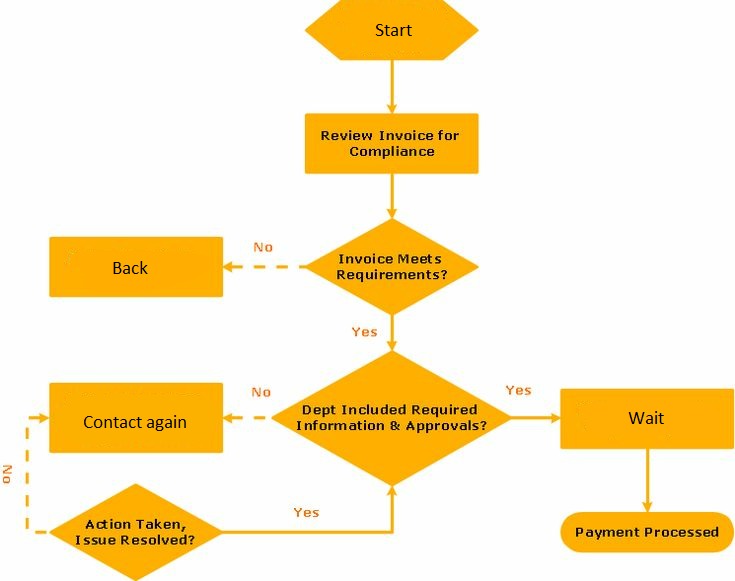arrow: (226, 485, 396, 537), (21, 413, 48, 537), (224, 260, 307, 274), (641, 449, 653, 512), (385, 59, 397, 113), (223, 412, 277, 424), (512, 412, 563, 423), (386, 173, 398, 219), (385, 315, 398, 351)
decision: (271, 351, 511, 486), (50, 483, 225, 581), (304, 217, 478, 315)
process: (47, 382, 225, 454), (559, 386, 735, 451), (304, 110, 479, 175), (49, 236, 221, 299), (304, 1, 479, 62)
terminator: (559, 510, 735, 555)
text: (297, 399, 489, 439), (318, 127, 461, 160), (73, 517, 200, 549), (336, 252, 448, 284), (571, 524, 727, 541), (83, 414, 188, 431), (109, 260, 150, 279), (626, 408, 664, 425), (374, 23, 414, 38), (348, 324, 383, 338), (292, 504, 321, 520), (500, 385, 535, 396), (249, 385, 276, 399), (249, 242, 275, 254), (1, 463, 15, 485)
